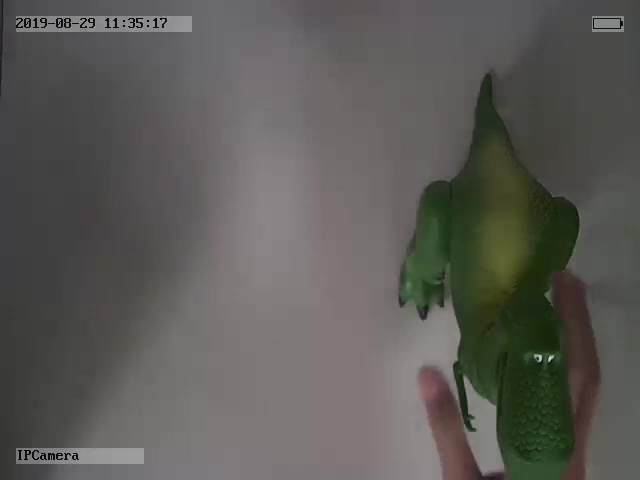rex: (398, 72, 581, 480)
